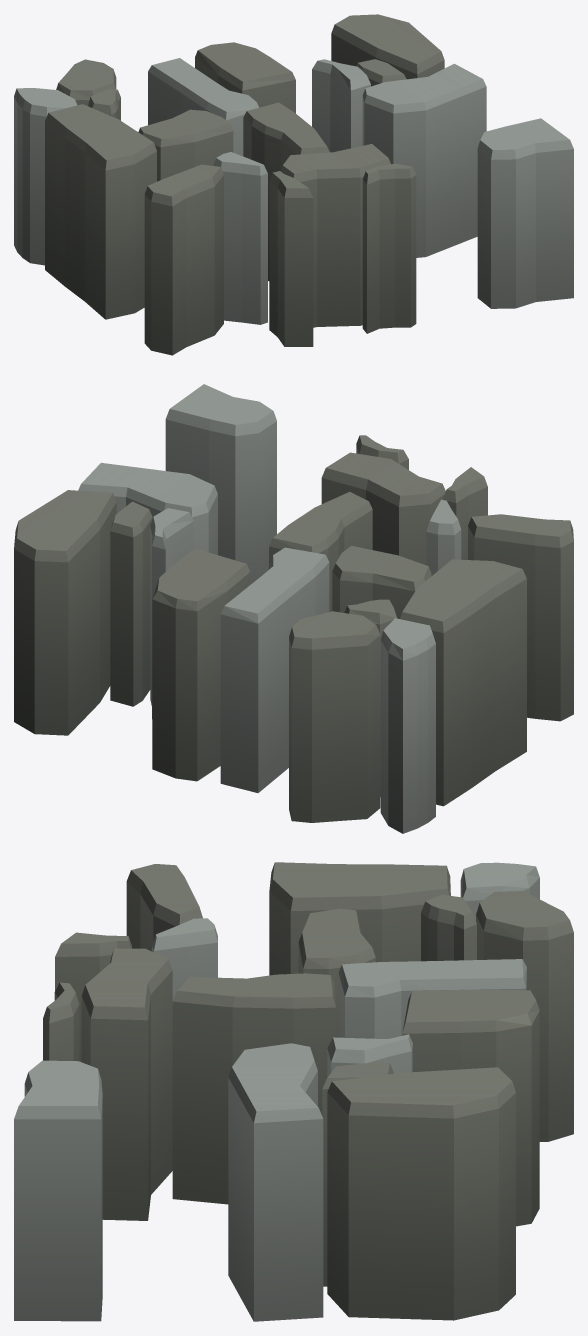
Rendered from ZLP_Road_B_8.FBX.
The picture shows the model from 3 angles, top to bottom: view 1: azimuth 30°, elevation 25°; view 2: azimuth 150°, elevation 25°; view 3: azimuth 270°, elevation 25°; orthographic projection. The views are drawn at different scales.
Visible parts, largest first — view 1: ZLP_Road_B_8; view 2: ZLP_Road_B_8; view 3: ZLP_Road_B_8.
Boxes of the visible parts, bbox=[...] form: ZLP_Road_B_8: bbox=[14, 14, 573, 355]; ZLP_Road_B_8: bbox=[14, 384, 573, 833]; ZLP_Road_B_8: bbox=[14, 862, 573, 1321].
Bounding box in the file's own units: 359 × 144 × 343.
